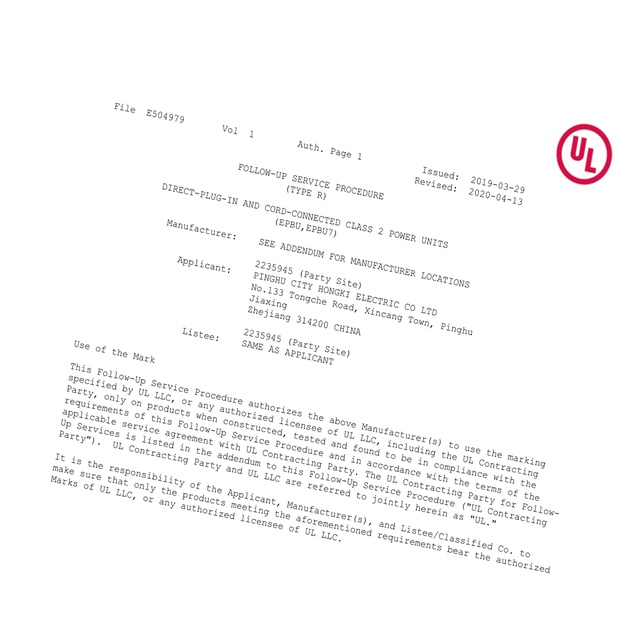ul: (555, 123, 612, 186)
